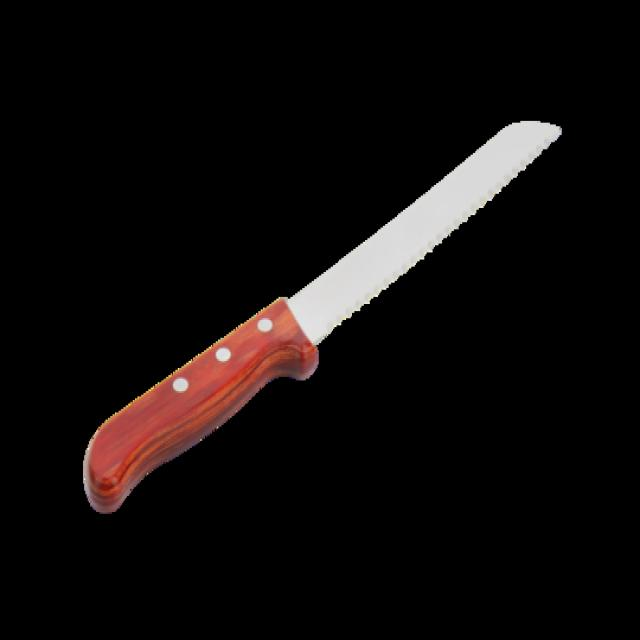Knife: (83, 121, 561, 512)
